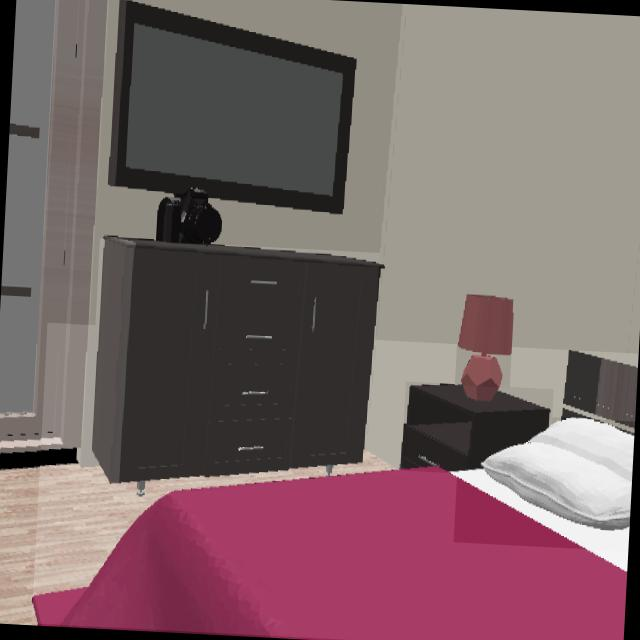bed: (33, 350, 638, 640)
cabinet: (92, 239, 379, 483)
lamp: (457, 295, 513, 406)
nighttable: (403, 386, 552, 474)
pillow: (457, 420, 634, 550)
